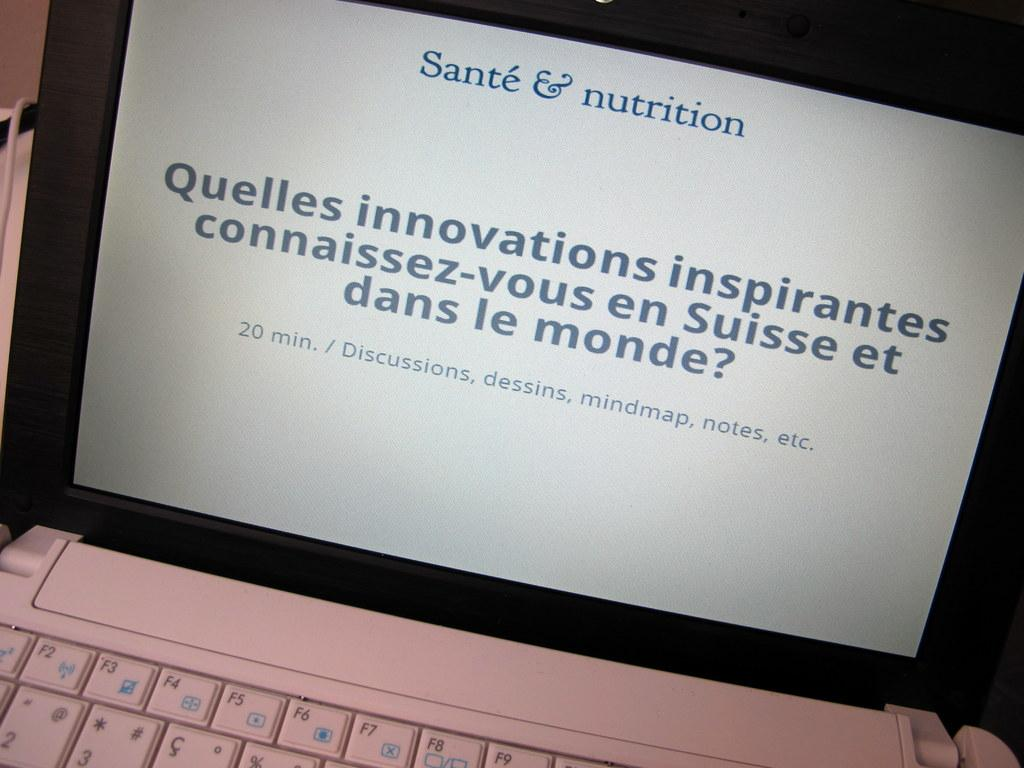Laptop: (0, 1, 1012, 768)
